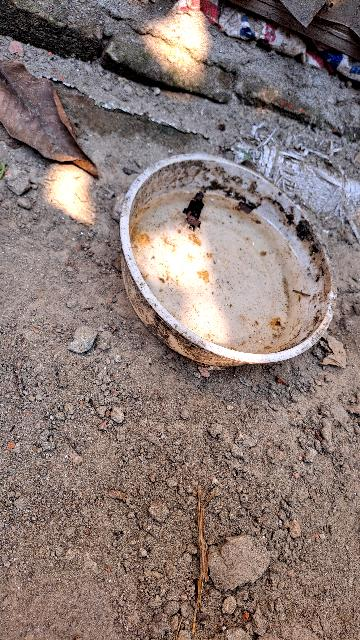hardplastic: (96, 133, 360, 383)
